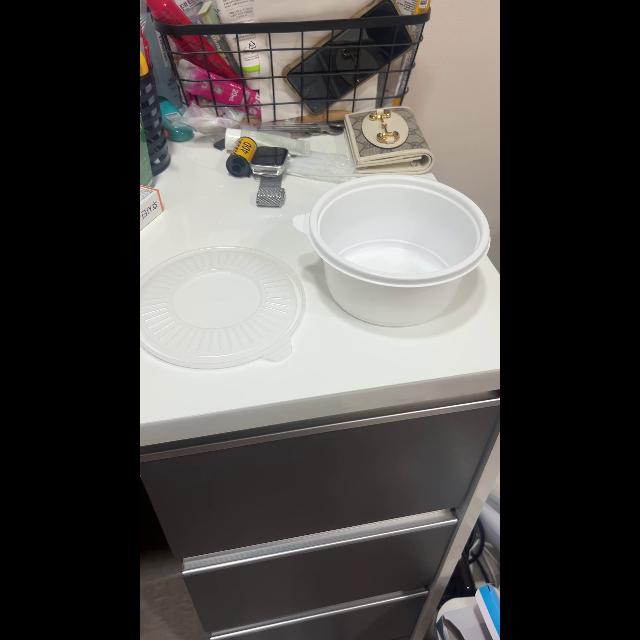clean: (302, 180, 490, 326), (140, 248, 300, 360)
